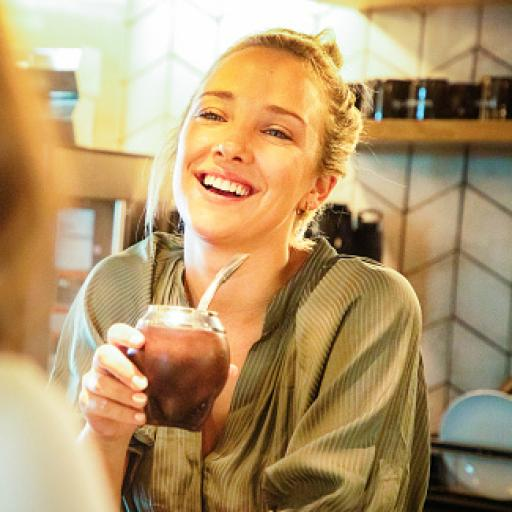mate: (127, 254, 248, 431)
